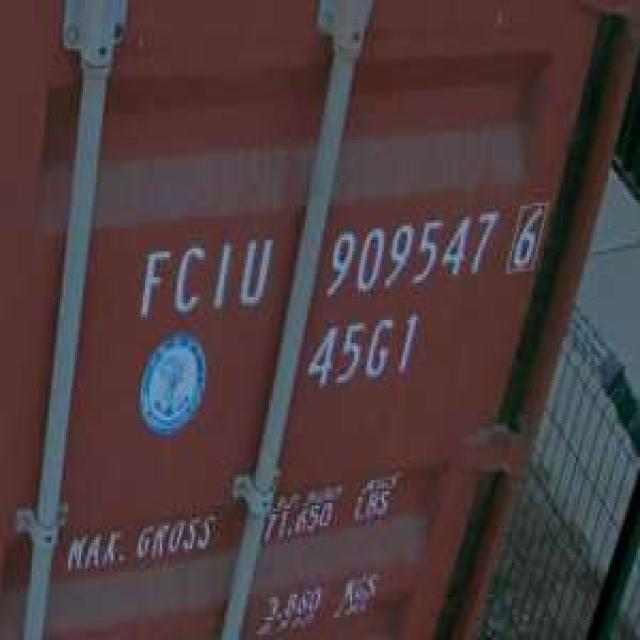dv: (506, 191, 550, 280)
owner: (130, 226, 275, 323)
serial: (318, 208, 501, 303)
size: (301, 312, 424, 397)
